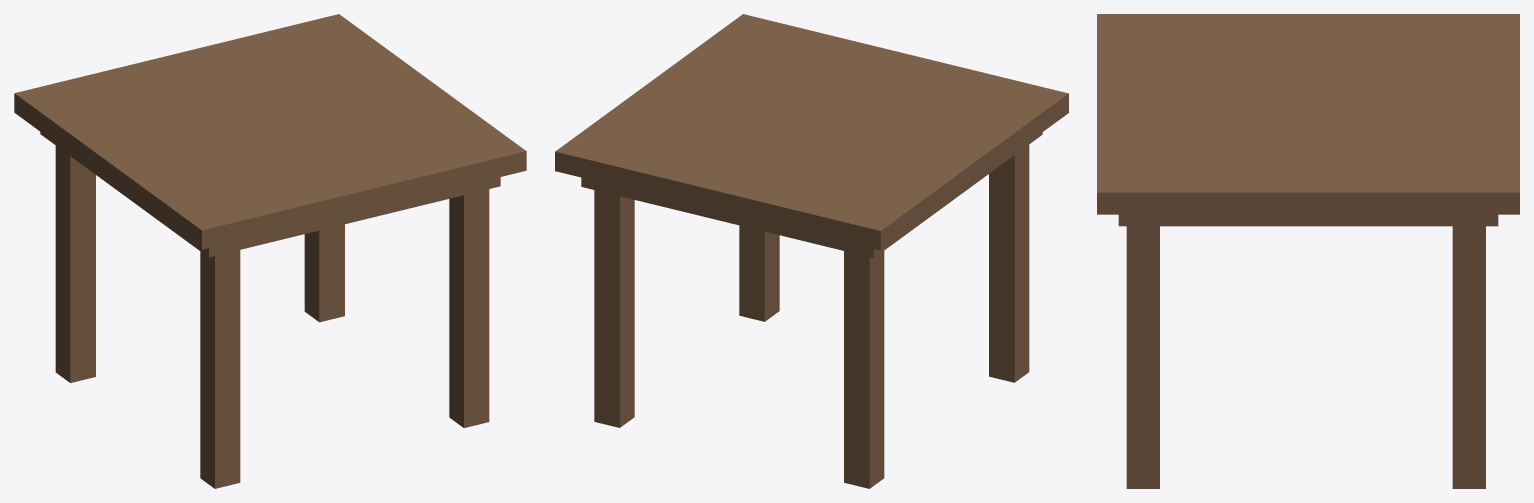
Rendered from BackhouseTable.fbx.
3 renders of one model, left to right at view 1: azimuth 30°, elevation 25°; view 2: azimuth 150°, elevation 25°; view 3: azimuth 270°, elevation 25°, orthographic. The views are drawn at different scales.
Parts seen in each view (by area): view 1: pCube390; view 2: pCube390; view 3: pCube390.
Boxes of the visible parts, <box> form: pCube390: <box>14,14,526,488</box>; pCube390: <box>555,14,1068,488</box>; pCube390: <box>1097,14,1519,488</box>.
Bounding box in the file's own units: 0.6735 × 0.5442 × 0.6735.
